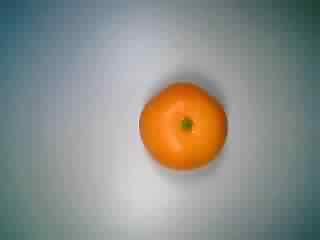orange: (135, 75, 230, 177)
